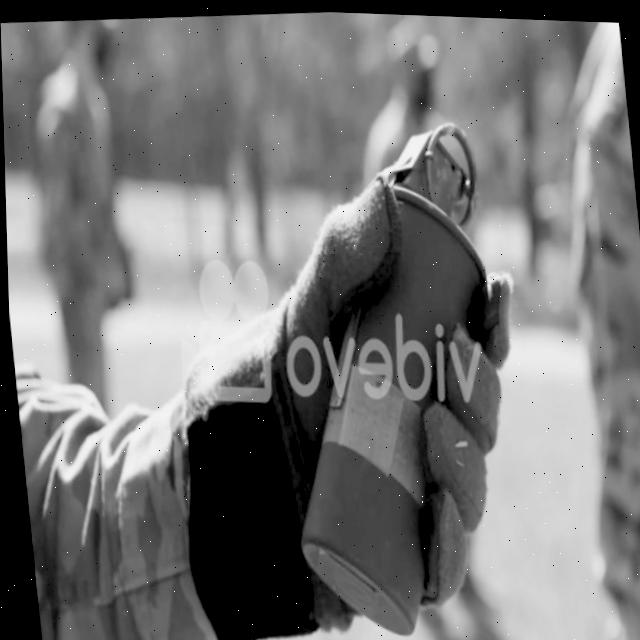grenade: (244, 89, 547, 640)
